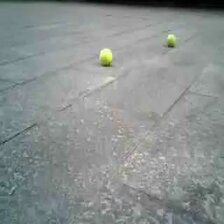tennis: (99, 49, 112, 64), (166, 33, 175, 45)
